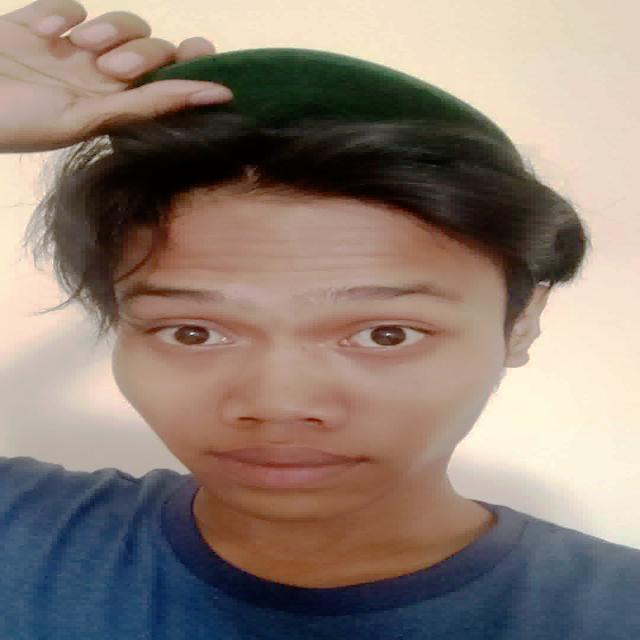TOPI: (89, 36, 540, 152)
